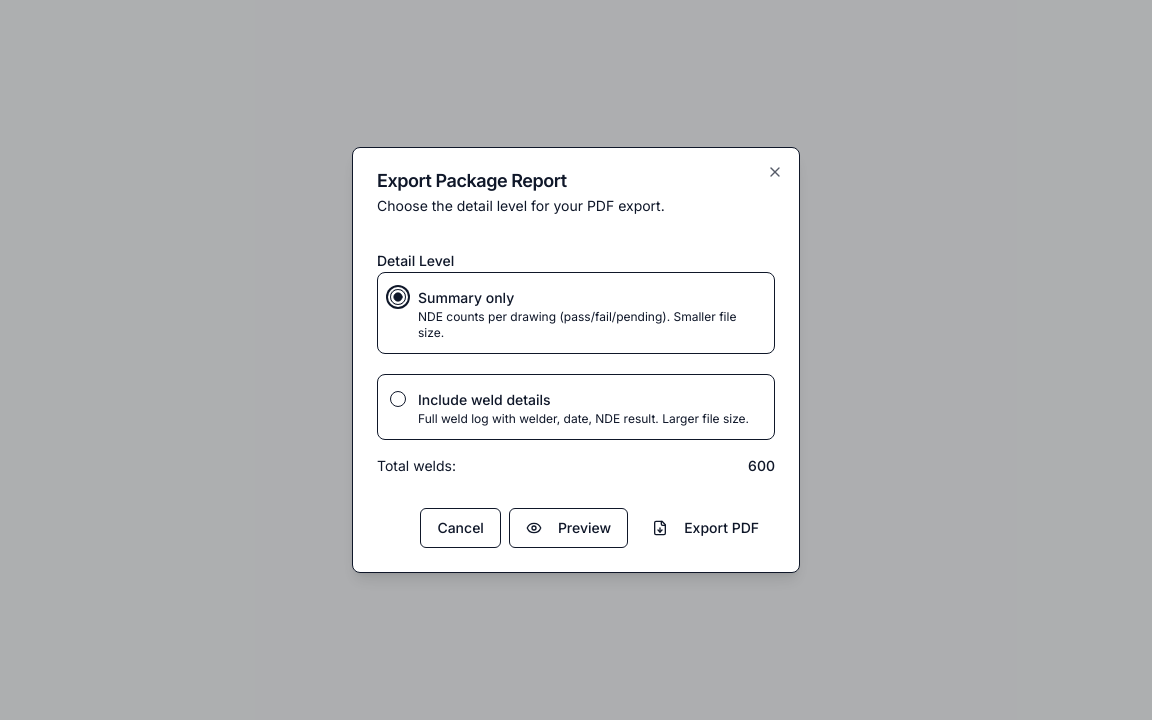
Test case: ExportOptionsDialog › large package warning › shows warning when weld count exceeds threshold and full details selected
The image size is (1152, 720).
First select full details
Click the radio button named "Include weld details" next to "Include weld details" at (398, 399), box [390,391,406,407]
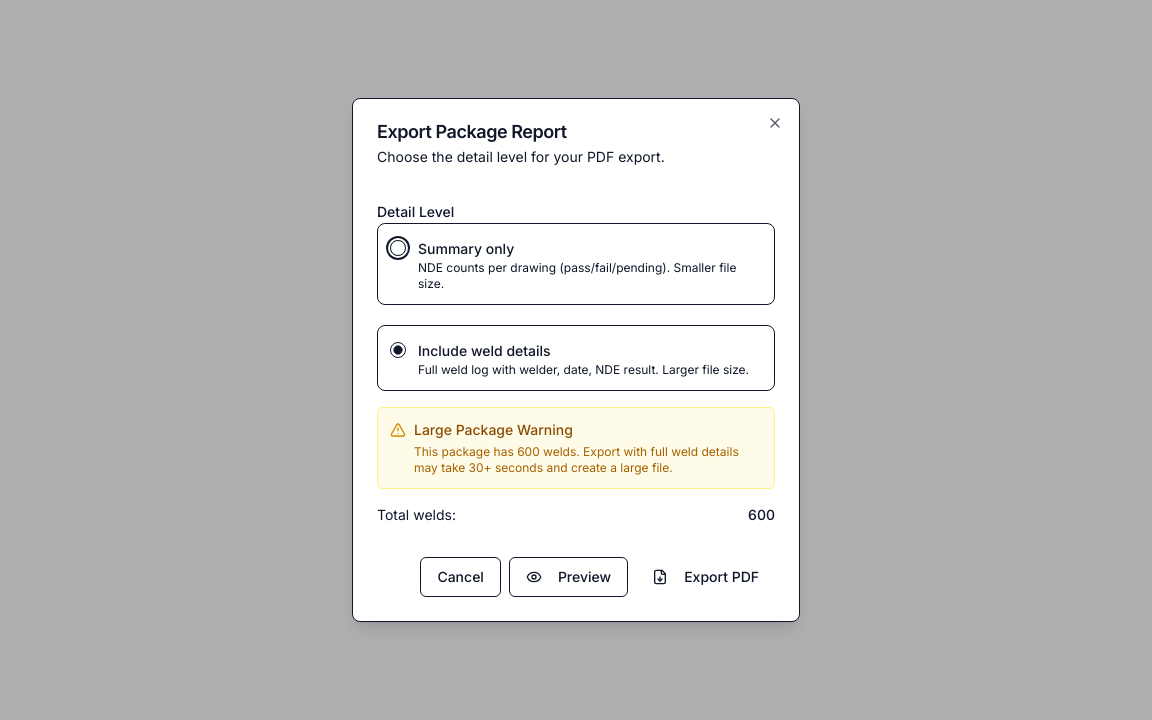
Expected: the text "Large Package Warning" is shown, [414,421,573,438]
Expected: the text "This package has 600 welds" is shown, [414,444,762,476]
